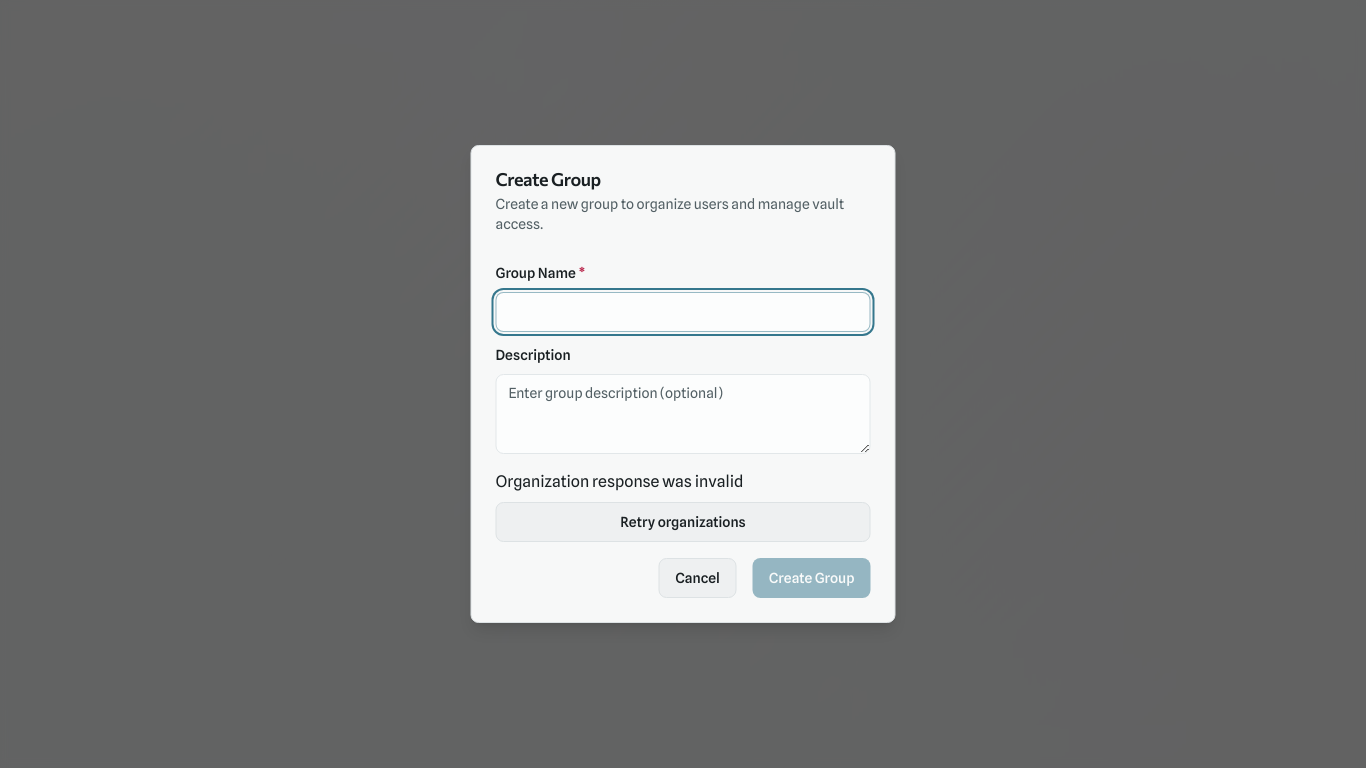
Test: GroupFormDialog ownership and organization recovery › keeps a missing catalog unknown and never treats it as an empty catalog
The image size is (1366, 768).
Click the button "Retry organizations": click(683, 522) [496,502,870,542]
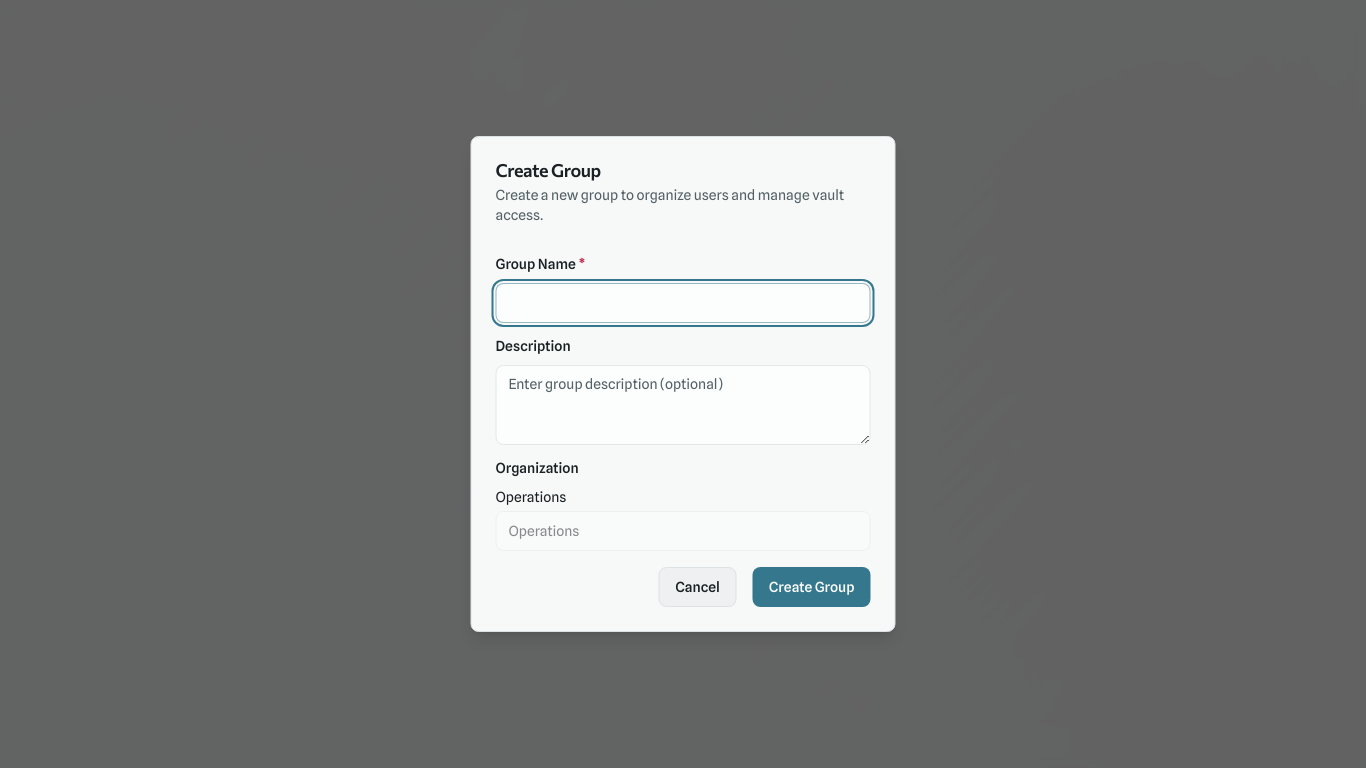
Result: the field showing "Operations" is shown at [496,511,870,551]
